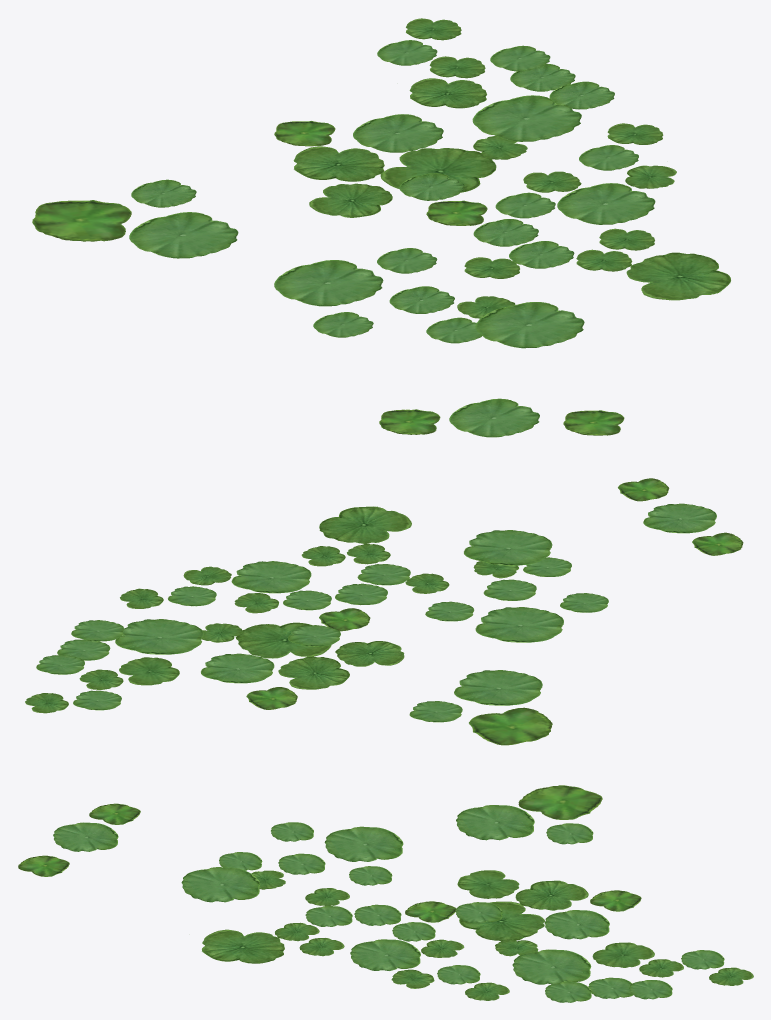
File: Scene_Grass_HeHua_1.FBX
The picture shows the model from 3 angles, top to bottom: view 1: azimuth 30°, elevation 25°; view 2: azimuth 150°, elevation 25°; view 3: azimuth 270°, elevation 25°; orthographic projection. The views are drawn at different scales.
Parts seen in each view (by area): view 1: Scene_Grass_HeHua_1; view 2: Scene_Grass_HeHua_1; view 3: Scene_Grass_HeHua_1.
Part boxes in pixels (<box>): Scene_Grass_HeHua_1: <box>32,18,730,437</box>; Scene_Grass_HeHua_1: <box>25,478,743,745</box>; Scene_Grass_HeHua_1: <box>18,785,753,1002</box>.
Size of the model in its own units: 338 by 4.05 by 477.
